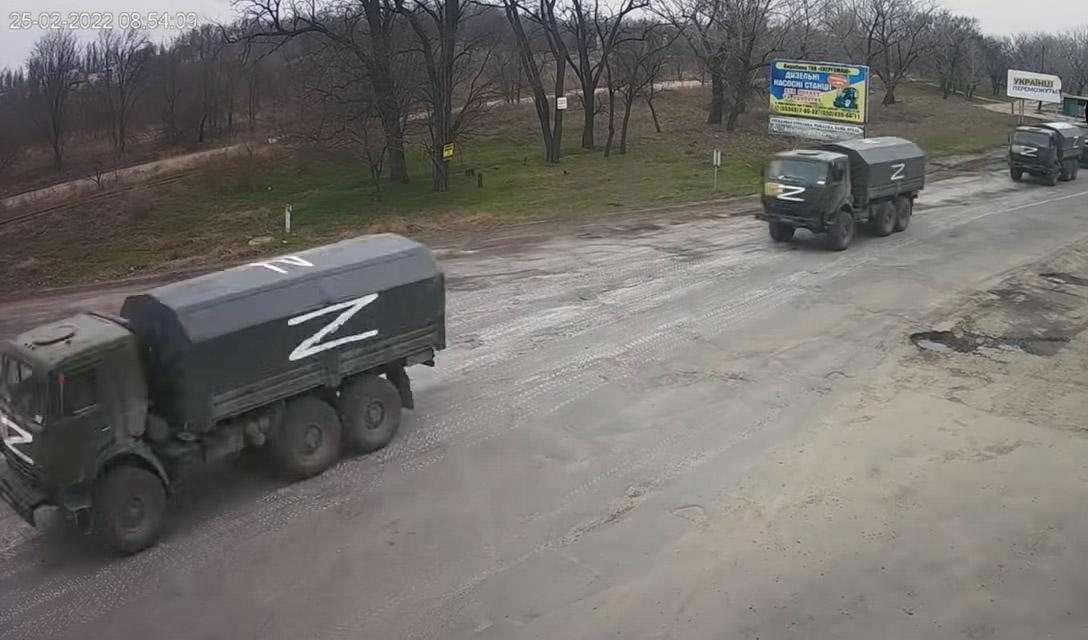truck: (0, 222, 450, 578), (752, 131, 928, 263), (1004, 118, 1088, 192)
